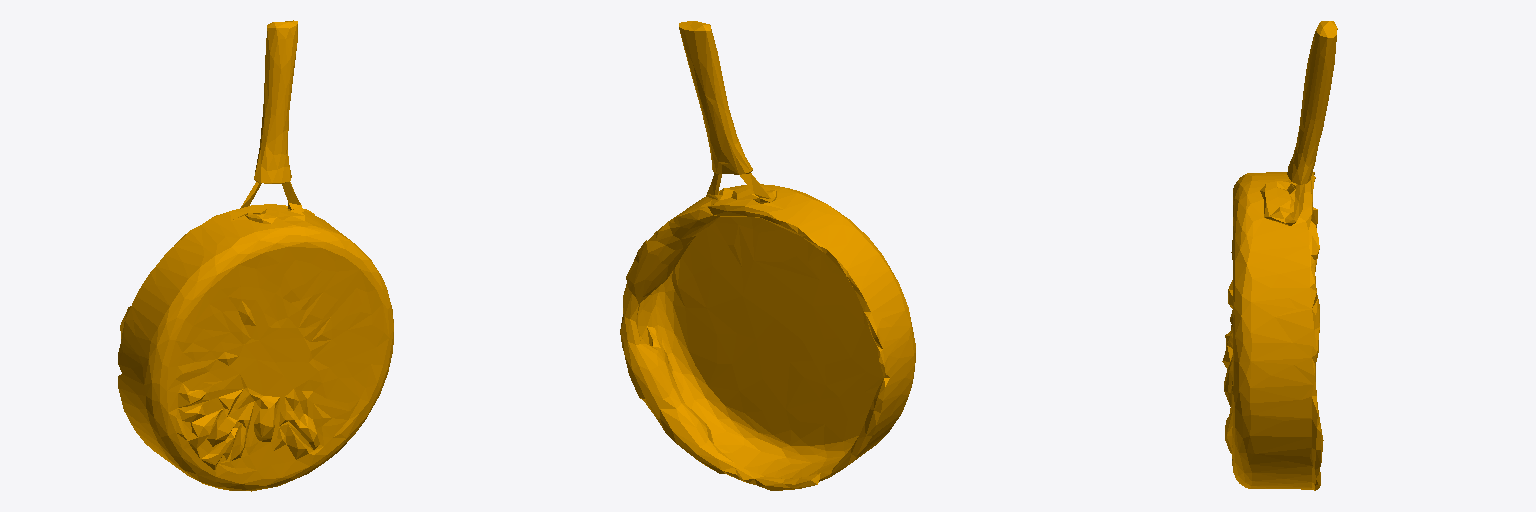
robot.urdf — indenter:
<robot name="indenter">
	<!-- <link name="world">
        </link> -->

        <!-- <joint name="world_to_indenter" type="prismatic">
                <parent link="world"/>
                <child link="indenter"/>
                <origin rpy="0.0 0.0 0.0" xyz="0.0 0.0 0.0"/>
                <axis xyz="0 1 0"/>
                <dynamics damping="0.0" friction="0.0"/>
                <limit lower="0.0" upper="0.1" velocity="1e9" effort="1e9"/>
        </joint> -->

	<link name="indenter">
		<visual>
			<origin rpy="0.0 0.0 0.0" xyz="0.0 0.0 0.0"/>
			<geometry>
				<mesh filename="../../meshes/target_objects/skillet_ycb.obj"/>
			</geometry>
		</visual>
		<collision>
			<origin rpy="0.0 0.0 0.0" xyz="0.0 0.0 0.0"/>
			<geometry>
				<mesh filename="../../meshes/target_objects/skillet_ycb.obj"/>
			</geometry>
		</collision>
		<inertial>
			<origin rpy="0.0 0.0 0.0" xyz="0.0 -8.64389e-3 0.0"/>
			<mass value="0.00224114"/>
			<inertia ixx="6.25553e-8" iyy="4.07645e-8" izz="6.25353e-8" ixy="0.0" ixz="4.69820e-15" iyz="0.0"/>
		</inertial>
	</link>
</robot>

--- What the picture shows (computed from the rendered views, not written in the file) ---
The picture shows the robot from 3 angles, left to right: view 1: azimuth 30°, elevation 25°; view 2: azimuth 150°, elevation 25°; view 3: azimuth 270°, elevation 25°; orthographic projection.
Robot: indenter — 1 links, 0 joints (none); root link indenter; default pose: all joints at 0.
Links seen in each view (by area): view 1: indenter; view 2: indenter; view 3: indenter.
Link boxes in pixels (box(x1,y1,x2,y2)): indenter: box(118, 20, 393, 491); indenter: box(620, 21, 915, 490); indenter: box(1222, 21, 1337, 490).
Bounding box of the posed robot: 0.266 × 0.0965 × 0.4407 m (x, y, z).
Meshes: 1 distinct files referenced, 1 mesh visuals loaded (1 OBJ).